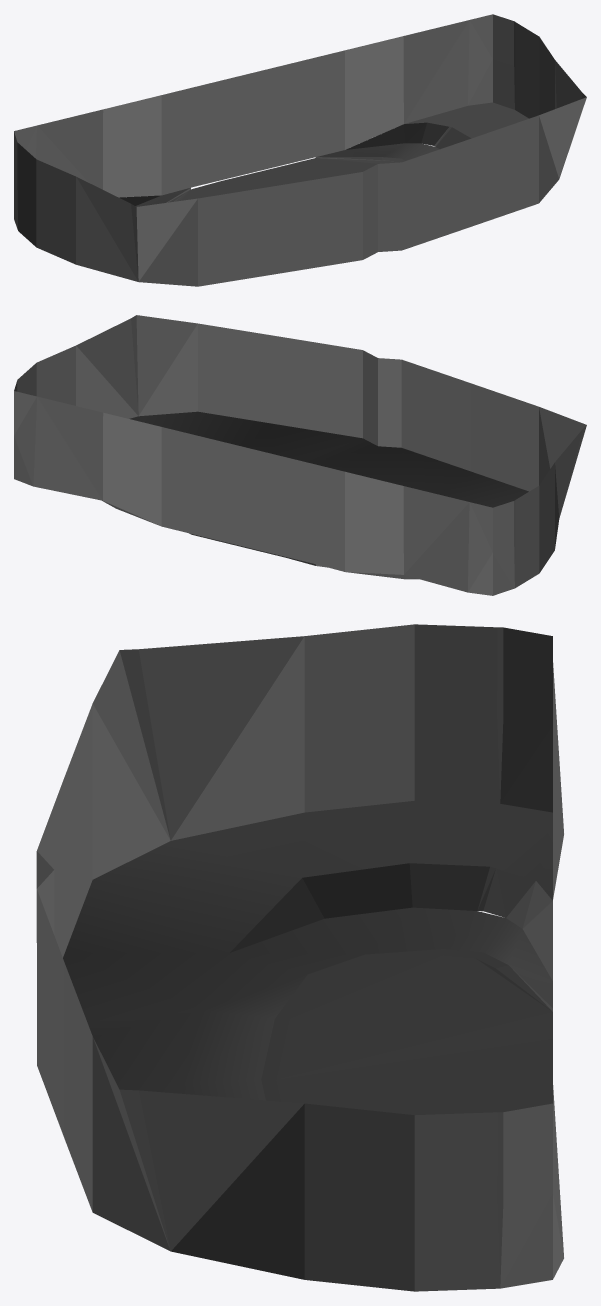
3 views of the same model, one above another, from view 1: azimuth 30°, elevation 25°; view 2: azimuth 150°, elevation 25°; view 3: azimuth 270°, elevation 25° (orthographic). The views are drawn at different scales.
Parts seen in each view (by area): view 1: group_13; view 2: group_13; view 3: group_13.
Boxes of the visible parts, <box> form: group_13: <box>14,14,586,286</box>; group_13: <box>14,315,586,595</box>; group_13: <box>36,624,563,1291</box>.
Bounding box in the file's own units: 12458 × 2539 × 5657.
Materials: 1 (1 with a texture image).
